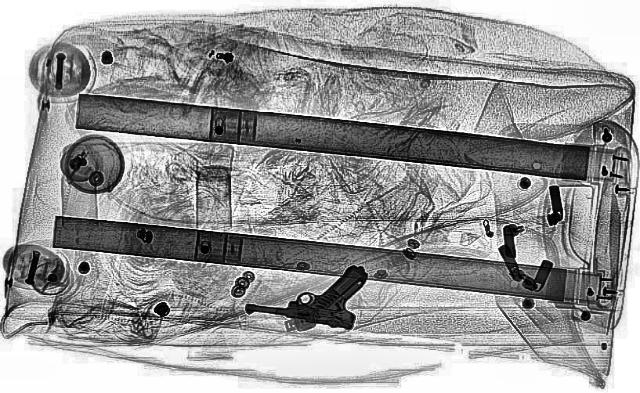Gun: (240, 254, 374, 330)
